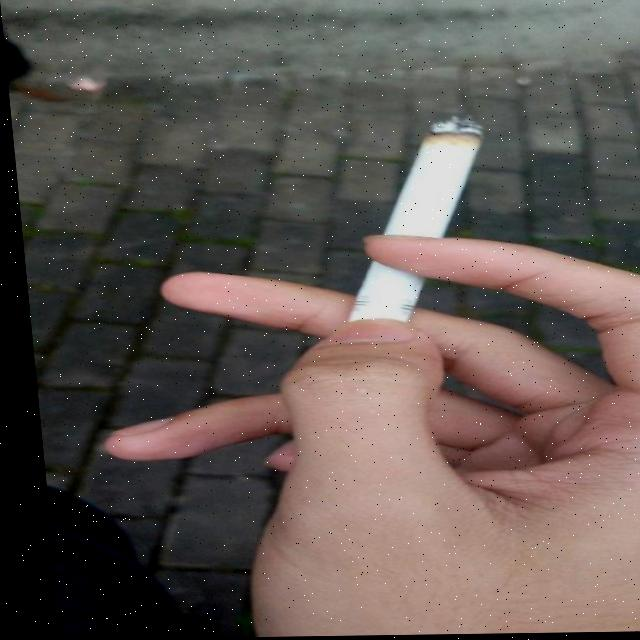cigarette: (329, 120, 494, 323)
